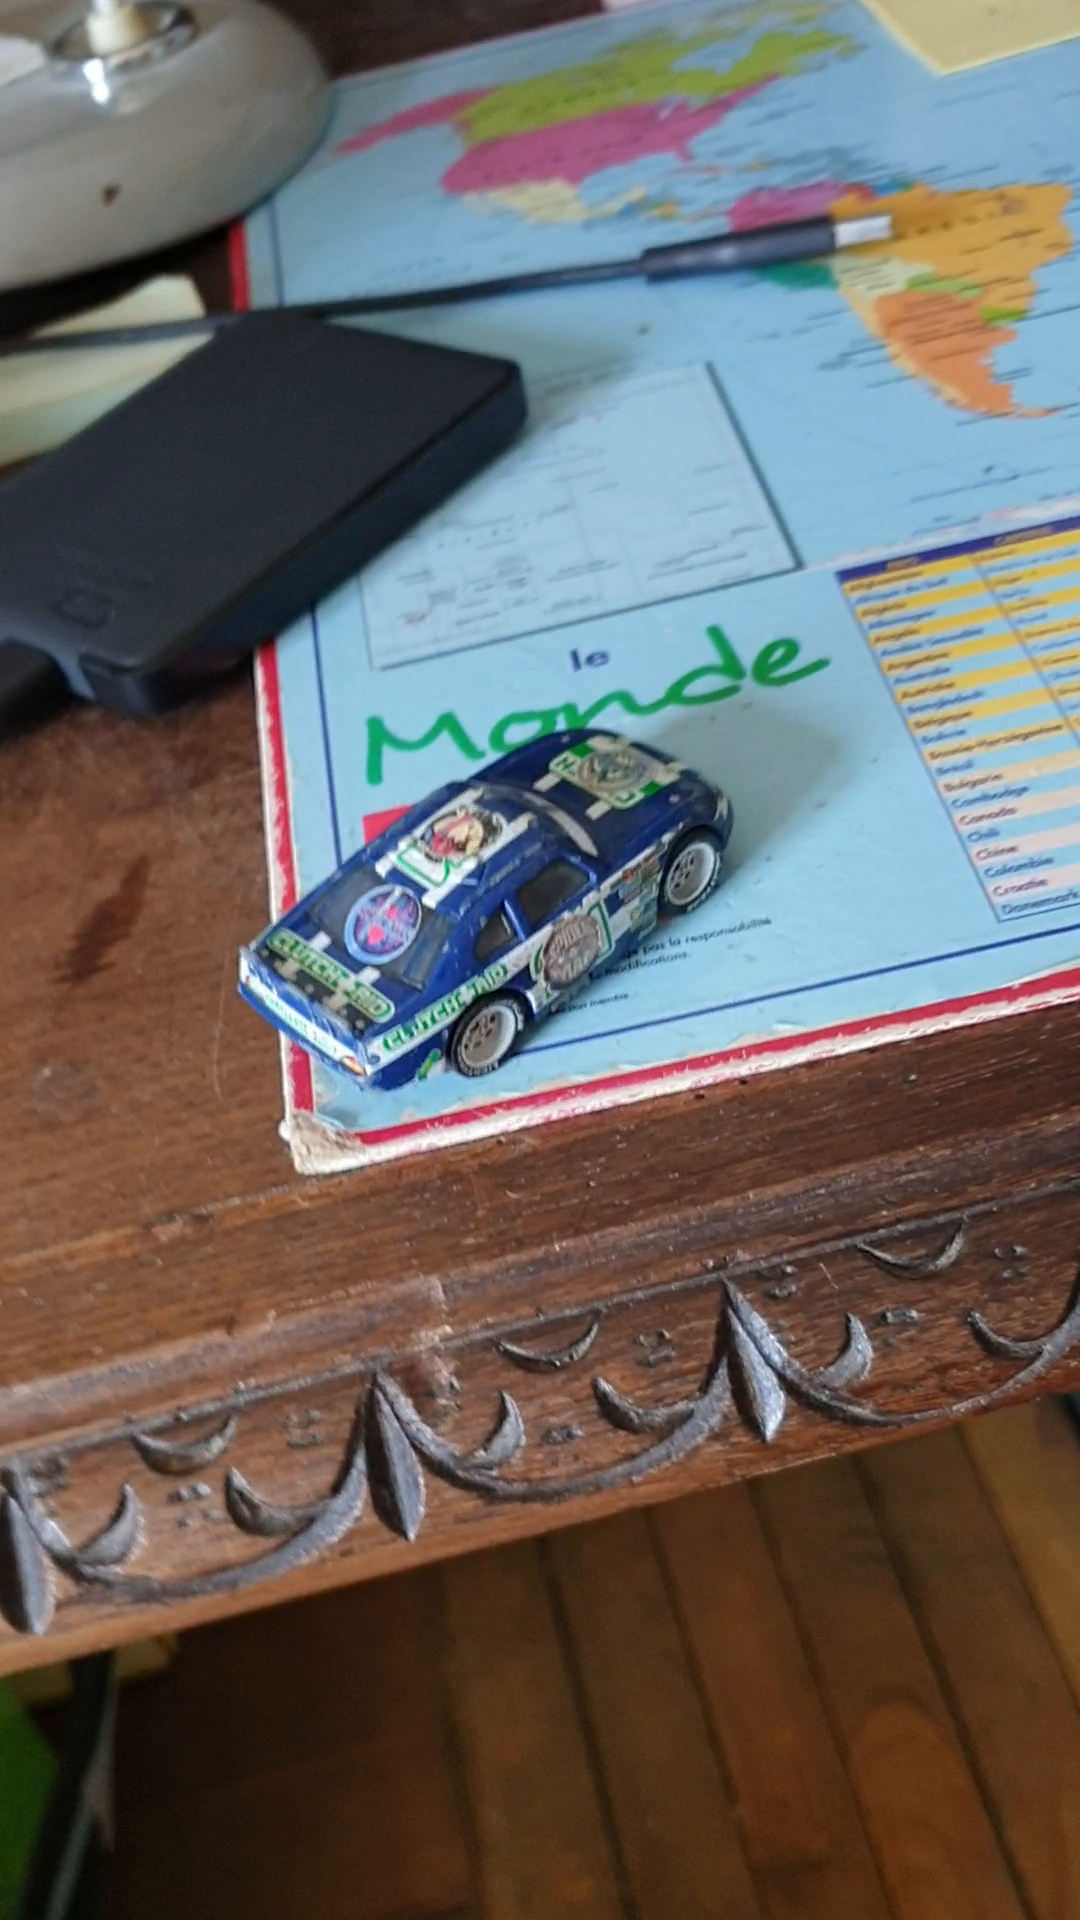cars: (229, 723, 737, 1102)
